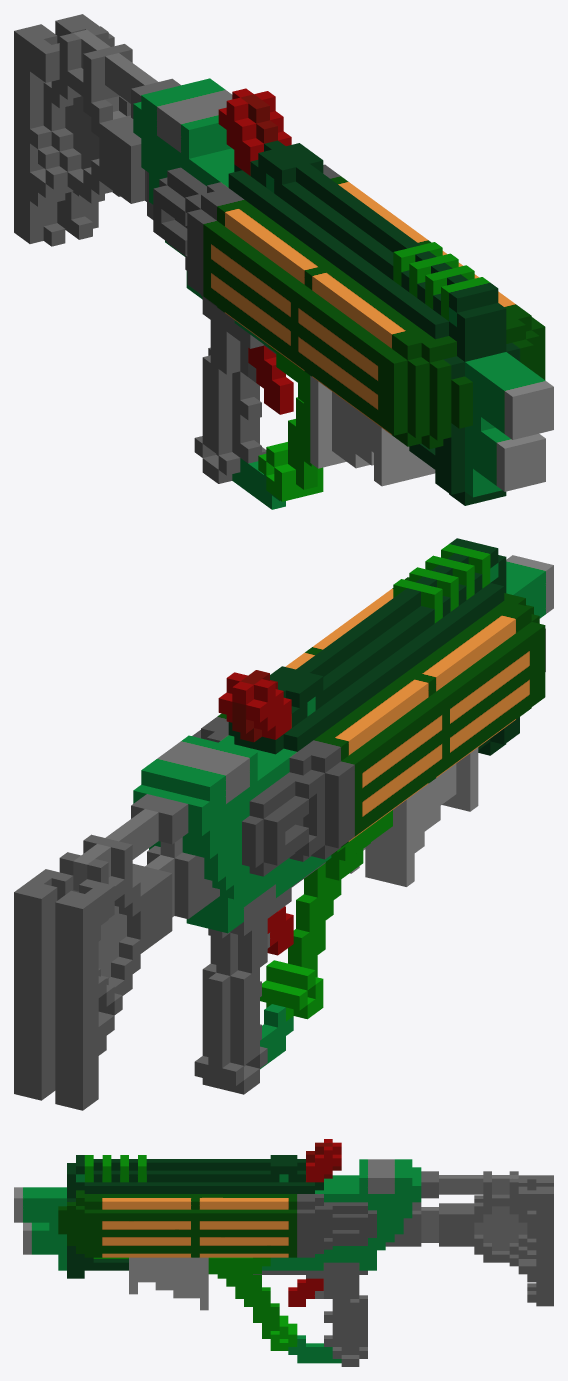
File: shotgun.fbx
3 views of the same model, one above another, from view 1: azimuth 30°, elevation 25°; view 2: azimuth 150°, elevation 25°; view 3: azimuth 270°, elevation 25° (orthographic). The views are drawn at different scales.
Visible parts, largest first — view 1: shotgun; view 2: shotgun; view 3: shotgun.
Boxes of the visible parts, x1=… form: shotgun: x1=14, y1=14, x2=553, y2=509; shotgun: x1=14, y1=538, x2=553, y2=1110; shotgun: x1=14, y1=1139, x2=553, y2=1366.
Size of the model in its own units: 11 by 27 by 61.
